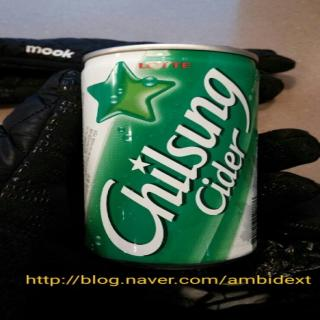cocacola: (76, 42, 264, 264)
